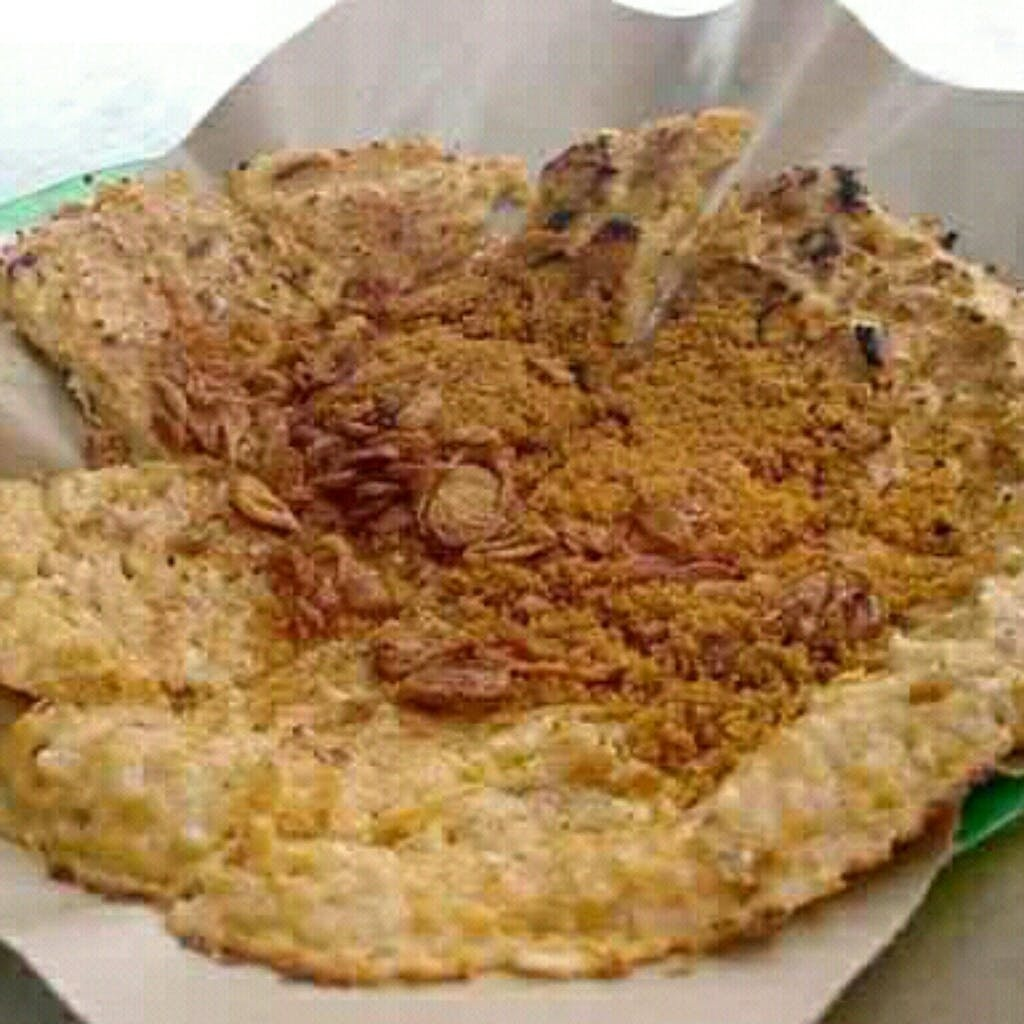kerak_telor: (1, 161, 1023, 968)
